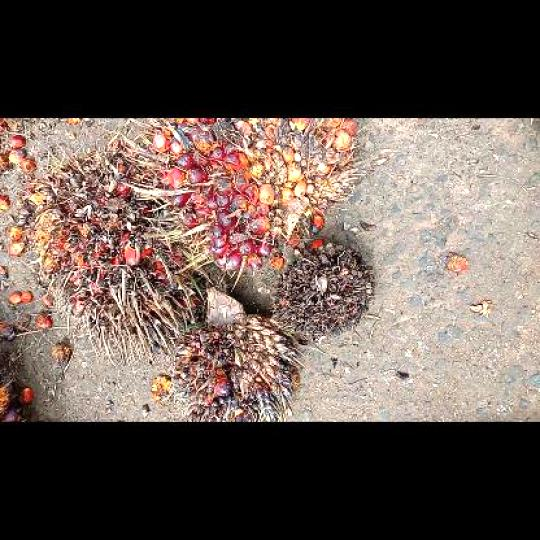masak: (119, 118, 368, 277)
terlalu masak: (22, 143, 227, 363)
